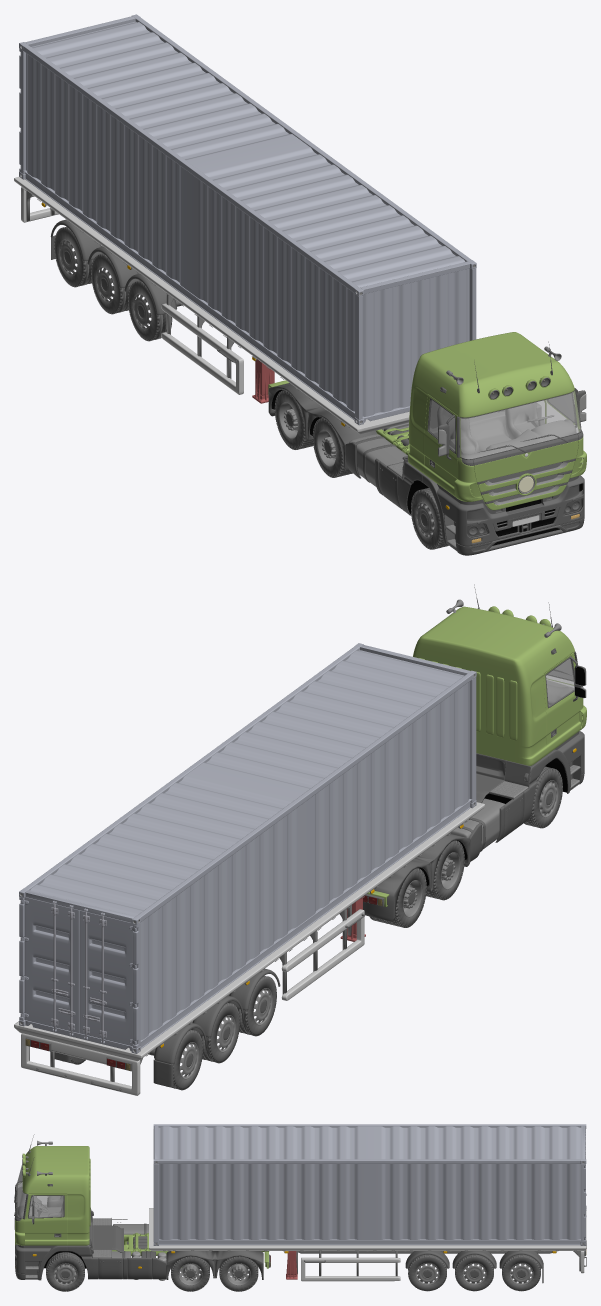
Rendered from Main_truck_updated_compressed.glb.
The picture shows the model from 3 angles, top to bottom: view 1: azimuth 30°, elevation 25°; view 2: azimuth 150°, elevation 25°; view 3: azimuth 270°, elevation 25°; orthographic projection. The views are drawn at different scales.
Visible parts, largest first — view 1: Container_trailer, Truck, Cab_Glass, axle004_wheel_Both_Left_Right, axle006_wheel_Both_Left_Right, axle005_wheel_Both_Left_Right, axle001_Front_wheel_Right, axle003_wheel_Both_Left_Right, axle002_wheel_Both_Left_Right, Fuel_tank, Container_back_door; view 2: Container_trailer, Truck, Container_back_door, axle001_Front_wheel_Right, axle004_wheel_Both_Left_Right, axle005_wheel_Both_Left_Right, axle006_wheel_Both_Left_Right, axle003_wheel_Both_Left_Right, axle002_wheel_Both_Left_Right, Fuel_tank, Cab_Glass; view 3: Container_trailer, Truck, Cab_door, axle001_Front_wheel_Left, axle006_wheel_Both_Left_Right, axle005_wheel_Both_Left_Right, axle004_wheel_Both_Left_Right, axle003_wheel_Both_Left_Right, axle002_wheel_Both_Left_Right, Cab_door_glass, Cab_Glass, Fuel_tank.
Part boxes in pixels (x1,y1,x2,y2): Container_trailer: (14,14,476,434); Truck: (268,332,586,555); Cab_Glass: (428,390,581,459); axle004_wheel_Both_Left_Right: (128,280,182,341); axle006_wheel_Both_Left_Right: (54,226,102,287); axle005_wheel_Both_Left_Right: (91,253,139,314); axle001_Front_wheel_Right: (411,488,448,549); axle003_wheel_Both_Left_Right: (274,390,313,449); axle002_wheel_Both_Left_Right: (312,418,383,477); Fuel_tank: (349,434,407,486); Container_back_door: (20,16,135,168); Container_trailer: (14,643,484,1095); Truck: (363,584,586,921); Container_back_door: (20,890,137,1051); axle001_Front_wheel_Right: (524,766,562,828); axle004_wheel_Both_Left_Right: (228,975,276,1036); axle005_wheel_Both_Left_Right: (191,1002,239,1063); axle006_wheel_Both_Left_Right: (62,1030,203,1090); axle003_wheel_Both_Left_Right: (369,868,426,927); axle002_wheel_Both_Left_Right: (426,840,464,900); Fuel_tank: (449,798,504,849); Cab_Glass: (546,658,574,706); Container_trailer: (149,1124,586,1283); Truck: (14,1134,270,1280); Cab_door: (25,1194,67,1245); axle001_Front_wheel_Left: (46,1252,84,1291); axle006_wheel_Both_Left_Right: (502,1254,540,1291); axle005_wheel_Both_Left_Right: (455,1254,493,1291); axle004_wheel_Both_Left_Right: (408,1254,446,1291); axle003_wheel_Both_Left_Right: (219,1256,258,1291); axle002_wheel_Both_Left_Right: (171,1256,209,1291); Cab_door_glass: (29,1196,63,1217); Cab_Glass: (16,1163,26,1218); Fuel_tank: (113,1224,148,1244).
Size of the model in its own units: 4.5 by 5.98 by 23.8.
